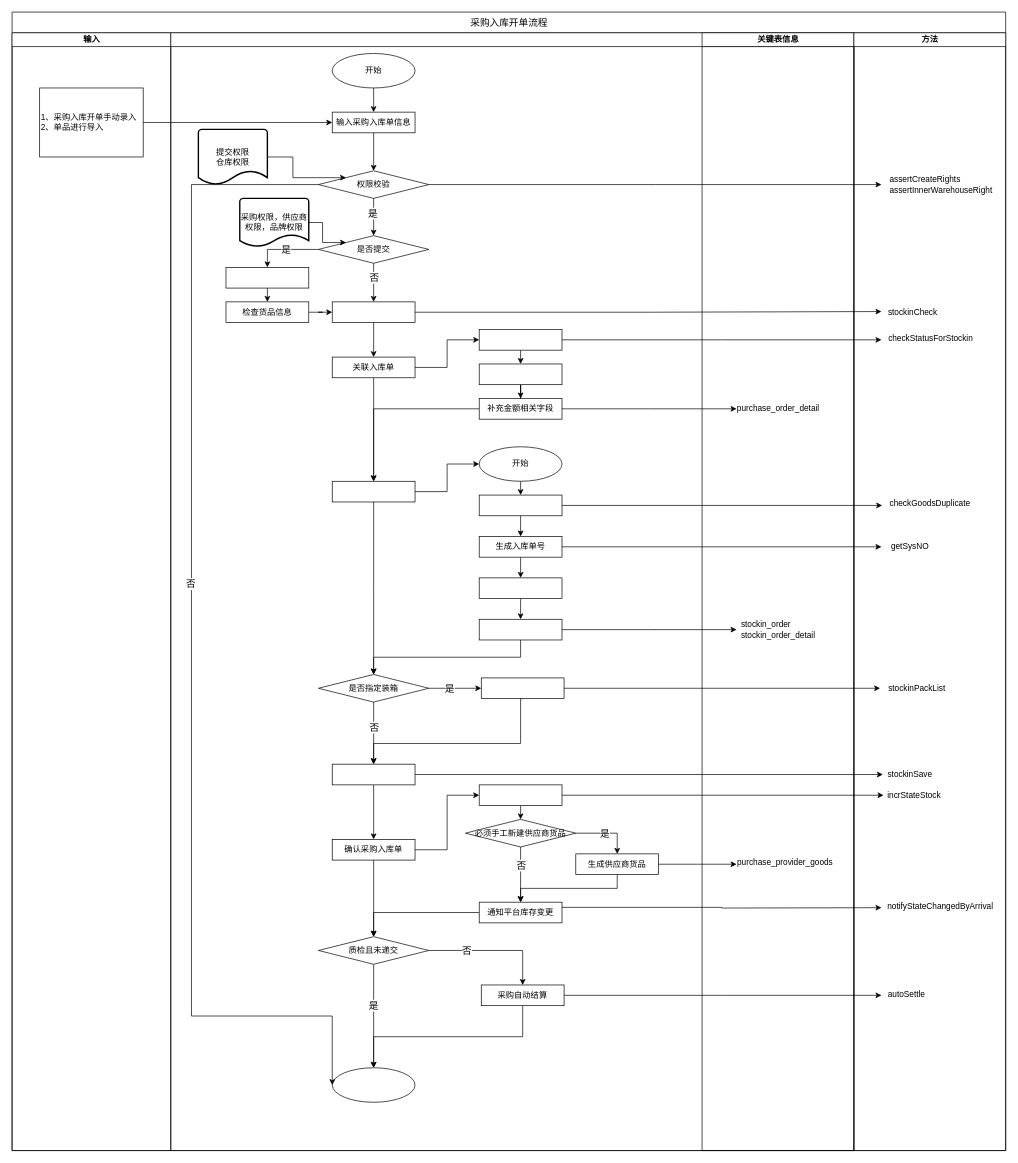
This 1018x1163 diagram has some shape labels left out. Here are the shapes that lost their labels. From the top down, the box of each, then its label:
(225, 267, 309, 288): 检查入库单明细
(332, 301, 415, 323): 检查唯一码
(479, 329, 562, 350): 检查供应商的状态
(479, 363, 562, 385): 校验供应商货品
(332, 481, 415, 502): 新建入库单
(479, 494, 562, 516): 检查货品重复行
(479, 577, 562, 599): 确定入库单状态
(479, 619, 562, 640): 插入详情和日志
(481, 677, 564, 699): 装箱入库
(332, 763, 415, 785): 保存唯一码
(479, 784, 562, 806): 扣减采购在途量,增加采购到货量
(332, 1067, 415, 1102): 结束
